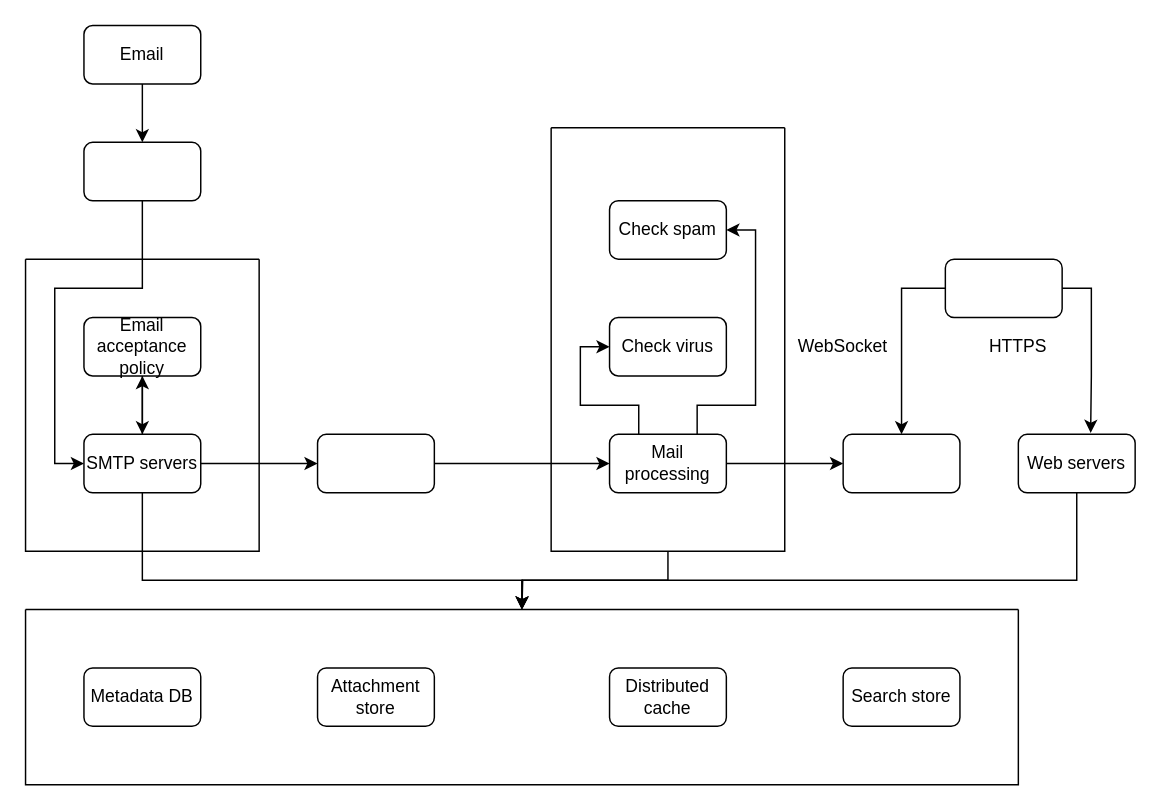
This 1161x810 diagram has some shape labels left out. The shapes that lost their labels are listed below. From the top down, each one's centre as x and y in pixels, then its label:
the point at 141,171: Load balancer
the point at 1003,288: Webmail
the point at 375,463: Outgoing queue
the point at 901,463: Real-time servers
